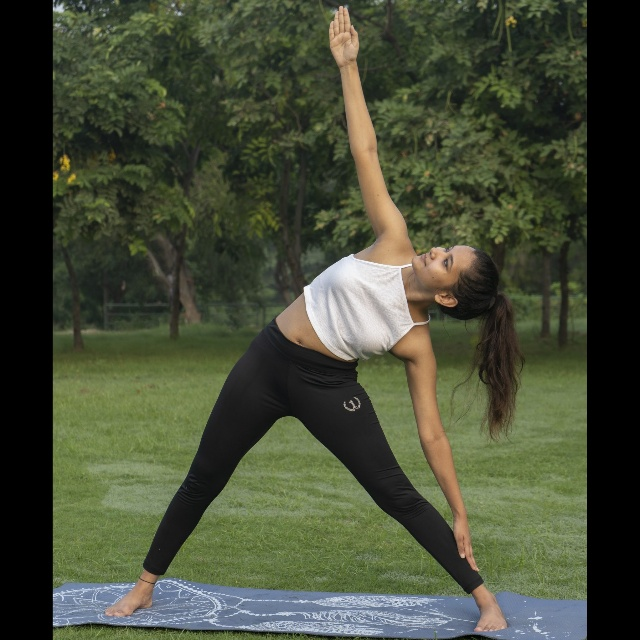Triangle_Pose: (105, 1, 525, 634)
